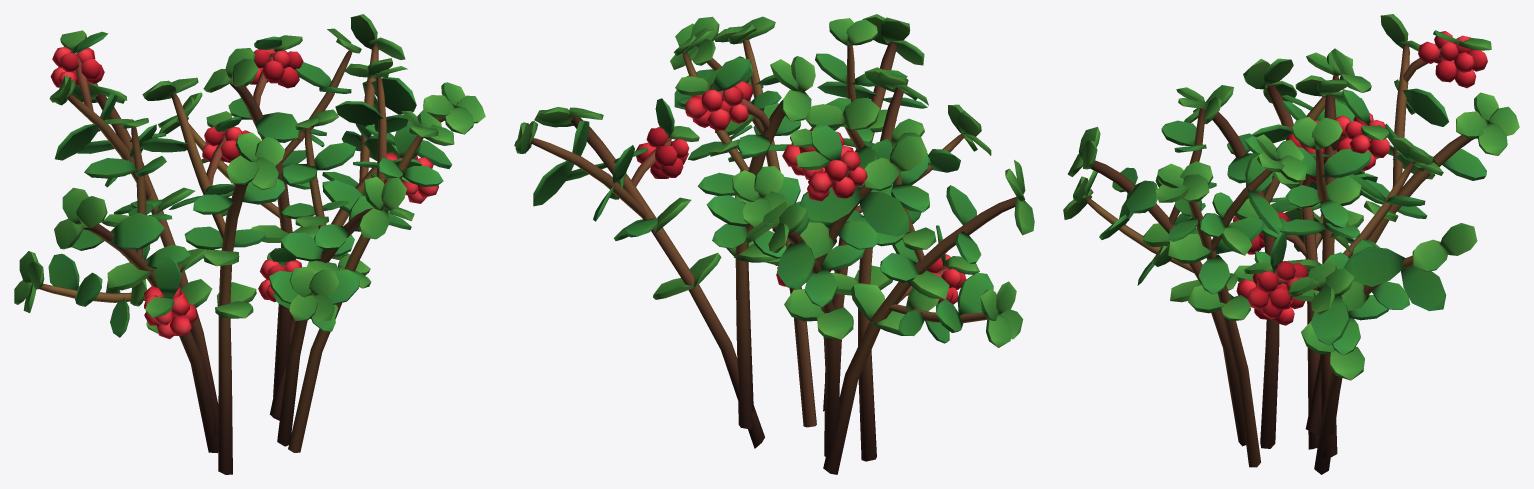
The model's file is SM_Plant_Cranberry_Lv4.fbx.
3 renders of one model, left to right at view 1: azimuth 30°, elevation 25°; view 2: azimuth 150°, elevation 25°; view 3: azimuth 270°, elevation 25°, orthographic. The views are drawn at different scales.
Visible parts, largest first — view 1: SM_Plant_Cranberry_Lv4; view 2: SM_Plant_Cranberry_Lv4; view 3: SM_Plant_Cranberry_Lv4.
Boxes of the visible parts, x1,y1,x2,y2 form: SM_Plant_Cranberry_Lv4: [14, 14, 485, 474]; SM_Plant_Cranberry_Lv4: [514, 14, 1034, 474]; SM_Plant_Cranberry_Lv4: [1063, 14, 1519, 474].
Bounding box in the file's own units: 69.57 × 56.45 × 58.85.
